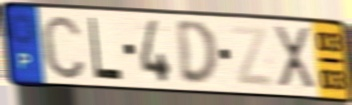4: (139, 17, 174, 85)
C: (39, 12, 88, 82)
D: (174, 19, 221, 89)
L: (87, 15, 124, 83)
X: (271, 23, 318, 93)
Z: (228, 24, 276, 90)
